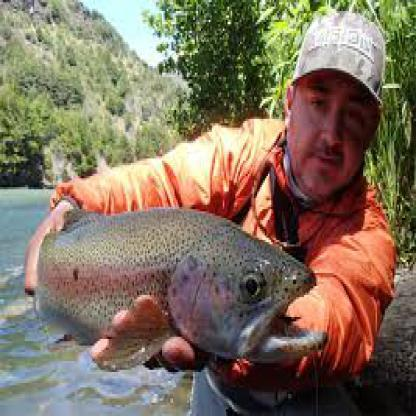fish: (30, 206, 330, 372)
